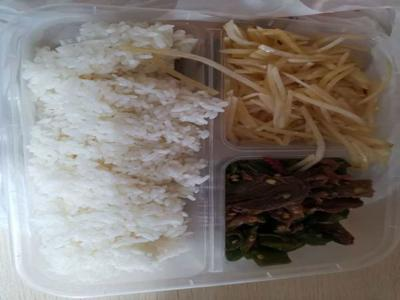rice: (18, 26, 216, 271)
